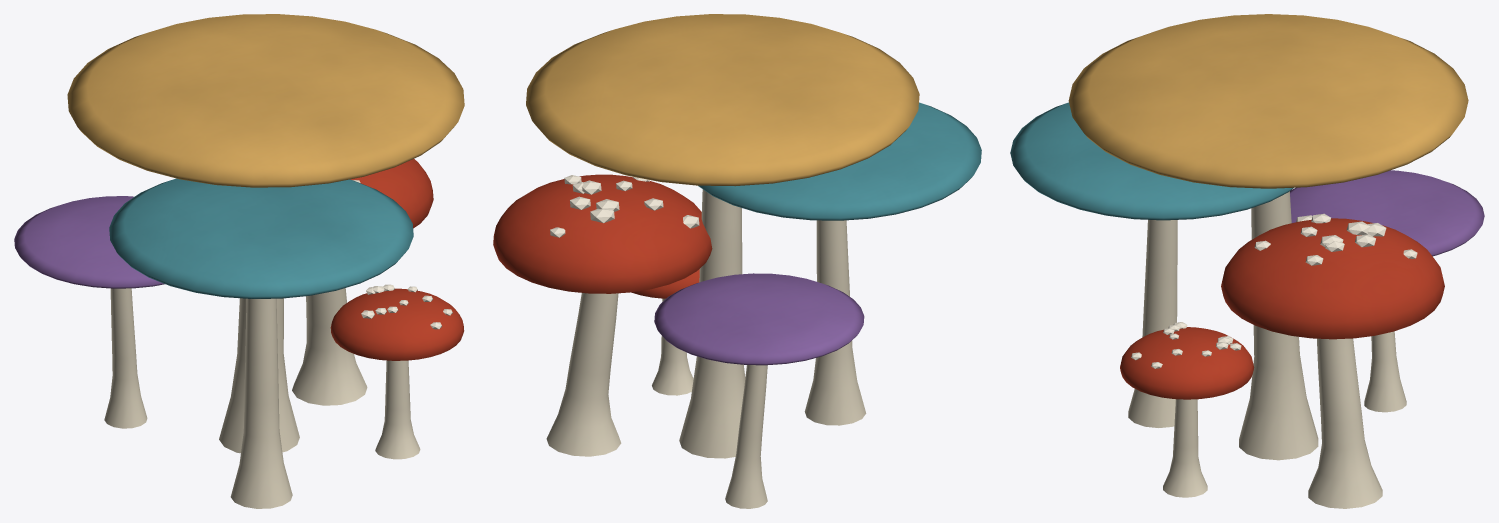
File: houba_trs.glb
3 views of the same model, side by side, from view 1: azimuth 30°, elevation 25°; view 2: azimuth 150°, elevation 25°; view 3: azimuth 270°, elevation 25° (orthographic).
Visible parts, largest first — view 1: houba_tren; view 2: houba_tren; view 3: houba_tren.
Boxes of the visible parts, x1=… form: houba_tren: x1=14, y1=14, x2=464, y2=508; houba_tren: x1=493, y1=14, x2=981, y2=508; houba_tren: x1=1010, y1=14, x2=1484, y2=508.
Bounding box in the file's own units: 3.25 × 3.04 × 3.55.
1 material, 1 textured.
